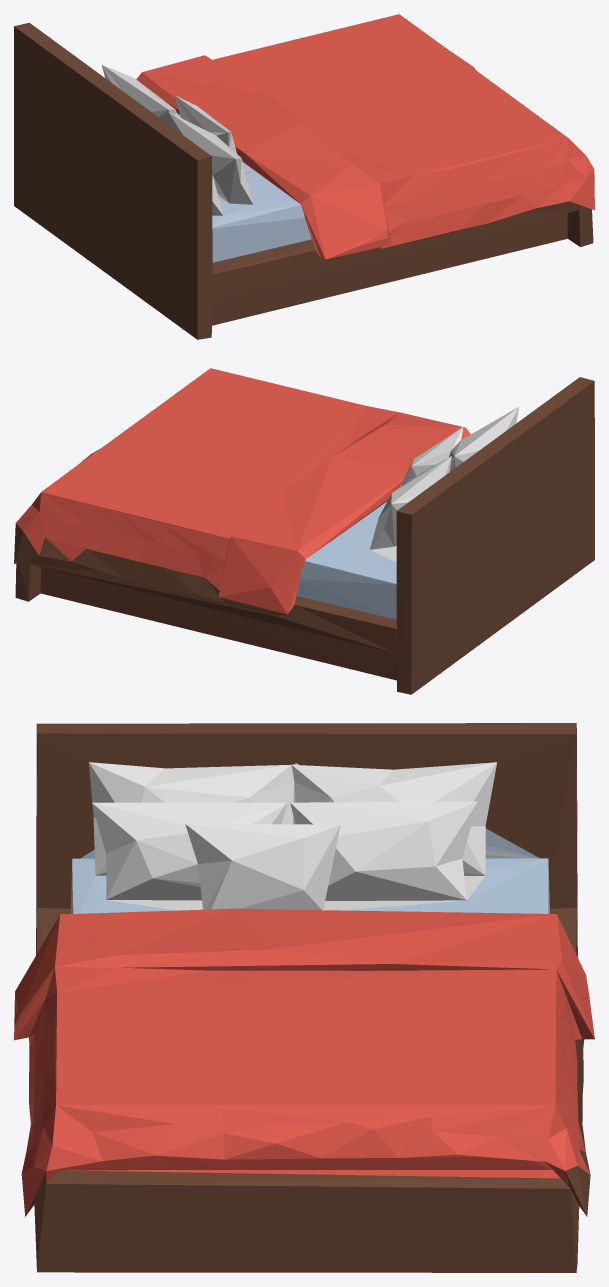
Rendered from Cama.fbx.
3 renders of one model, top to bottom at view 1: azimuth 30°, elevation 25°; view 2: azimuth 150°, elevation 25°; view 3: azimuth 270°, elevation 25°, orthographic. The views are drawn at different scales.
Visible parts, largest first — view 1: Cama; view 2: Cama; view 3: Cama.
Part boxes in pixels (<box>): Cama: <box>14,14,594,339</box>; Cama: <box>14,368,594,694</box>; Cama: <box>14,723,594,1272</box>.
Bounding box in the file's own units: 16333 × 7041 × 13929.
